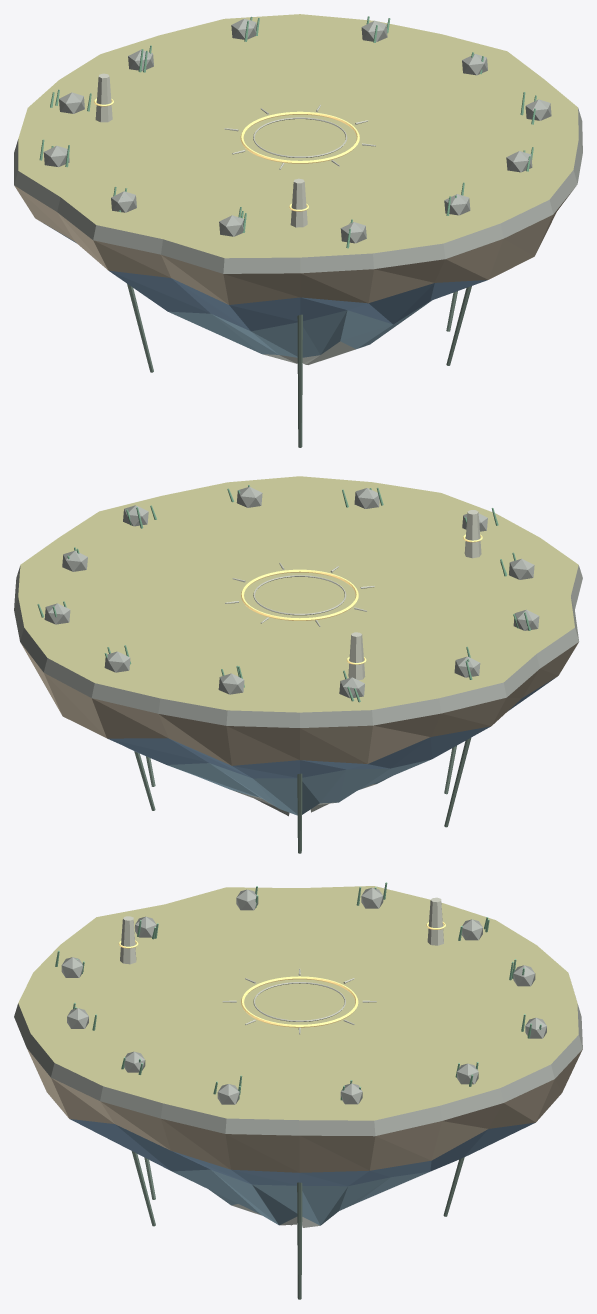
Rendered from island_2.glb.
The picture shows the model from 3 angles, top to bottom: view 1: azimuth 30°, elevation 25°; view 2: azimuth 150°, elevation 25°; view 3: azimuth 270°, elevation 25°; orthographic projection.
Parts seen in each view (by area): view 1: Walkable meadow.002, Layered floating bedrock.002, Island edge ornaments.002; view 2: Walkable meadow.002, Layered floating bedrock.002, Island edge ornaments.002; view 3: Walkable meadow.002, Layered floating bedrock.002, Island edge ornaments.002.
Part boxes in pixels (bbox=[...]): Walkable meadow.002: bbox=[18, 14, 578, 258]; Layered floating bedrock.002: bbox=[14, 108, 582, 364]; Island edge ornaments.002: bbox=[39, 16, 551, 447]; Walkable meadow.002: bbox=[18, 476, 578, 712]; Layered floating bedrock.002: bbox=[14, 565, 582, 816]; Island edge ornaments.002: bbox=[37, 485, 539, 853]; Walkable meadow.002: bbox=[18, 886, 578, 1120]; Layered floating bedrock.002: bbox=[14, 1003, 582, 1227]; Island edge ornaments.002: bbox=[55, 882, 546, 1299].
Size of the model in its own units: 24.16 by 12.98 by 24.38.
